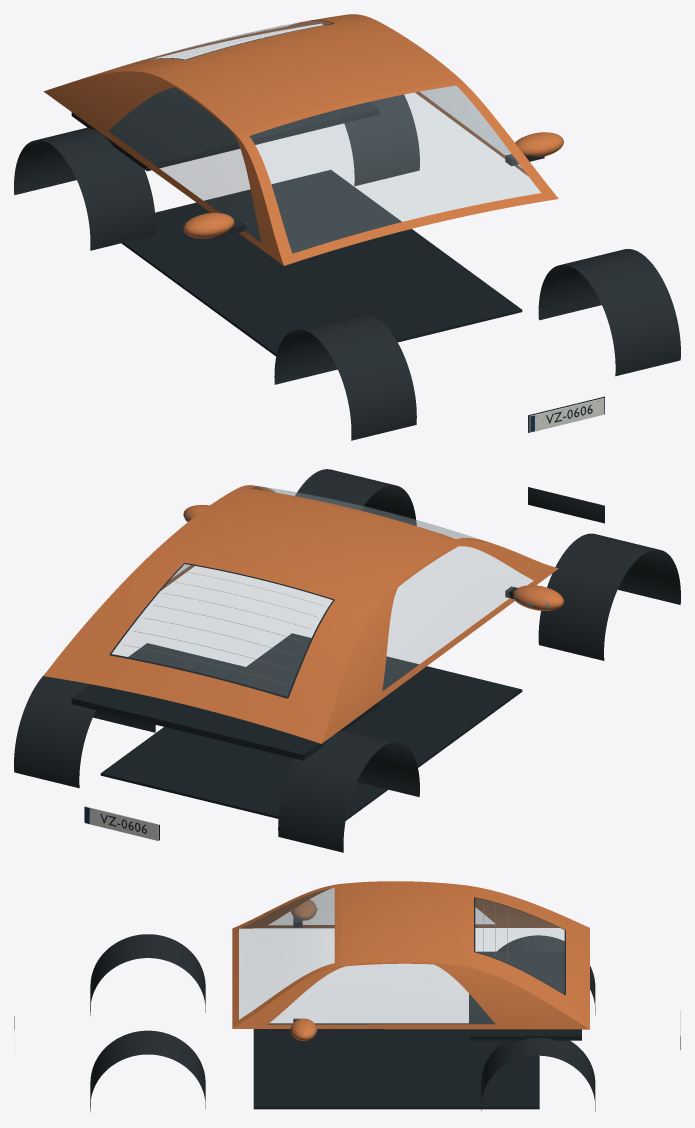
The model's file is aholo-gt-package.glb.
The picture shows the model from 3 angles, top to bottom: view 1: azimuth 30°, elevation 25°; view 2: azimuth 150°, elevation 25°; view 3: azimuth 270°, elevation 25°; orthographic projection. The views are drawn at different scales.
Visible parts, largest first — view 1: Window windscreen, Dark closed passenger floor, Unified canopy roof, Window left, Black wheel housing F1, Black wheel housing F-1, Black wheel housing R-1, Rear parcel shelf, Black wheel housing R1, Window rear, Window right, Front physical VZ-0606 plate Plate (+2 smaller); view 2: Window rear, Dark closed passenger floor, Unified canopy roof, Window left, Black wheel housing F-1, Black wheel housing R-1, Rear parcel shelf, Black wheel housing R1, Black wheel housing F1, Window windscreen, Front physical VZ-0606 plate Graphite, Rear physical VZ-0606 plate Plate (+3 smaller); view 3: Dark closed passenger floor, Window right, Window rear, Window windscreen, Unified canopy roof, Window left, Rear parcel shelf, Black wheel housing F-1, Black wheel housing F1, Black wheel housing R1, Black wheel housing R-1, Mirror streamlined shell.001 (+2 smaller).
Boxes of the visible parts, left/top/right/bottom form: Window windscreen: left=236, top=79, right=558, bottom=265; Dark closed passenger floor: left=122, top=170, right=522, bottom=356; Unified canopy roof: left=160, top=23, right=460, bottom=134; Window left: left=43, top=71, right=283, bottom=265; Black wheel housing F1: left=538, top=249, right=680, bottom=376; Black wheel housing F-1: left=274, top=313, right=416, bottom=440; Black wheel housing R-1: left=14, top=127, right=155, bottom=250; Rear parcel shelf: left=71, top=87, right=379, bottom=171; Black wheel housing R1: left=344, top=94, right=419, bottom=186; Window rear: left=71, top=14, right=380, bottom=82; Window right: left=322, top=21, right=527, bottom=175; Front physical VZ-0606 plate Plate: left=529, top=398, right=604, bottom=432; Window rear: left=43, top=546, right=380, bottom=743; Dark closed passenger floor: left=100, top=633, right=522, bottom=820; Unified canopy roof: left=160, top=489, right=460, bottom=600; Window left: left=322, top=541, right=558, bottom=743; Black wheel housing F-1: left=538, top=533, right=680, bottom=660; Black wheel housing R-1: left=278, top=729, right=419, bottom=852; Rear parcel shelf: left=71, top=643, right=379, bottom=760; Black wheel housing R1: left=14, top=673, right=155, bottom=788; Black wheel housing F1: left=295, top=469, right=416, bottom=525; Window windscreen: left=236, top=485, right=555, bottom=567; Front physical VZ-0606 plate Graphite: left=528, top=487, right=604, bottom=523; Rear physical VZ-0606 plate Plate: left=84, top=806, right=158, bottom=840; Dark closed passenger floor: left=253, top=1023, right=539, bottom=1109; Window right: left=232, top=962, right=589, bottom=1029; Window rear: left=458, top=884, right=589, bottom=1029; Window windscreen: left=232, top=884, right=341, bottom=1028; Unified canopy roof: left=341, top=881, right=458, bottom=965; Window left: left=240, top=888, right=559, bottom=928; Rear parcel shelf: left=469, top=951, right=581, bottom=1040; Black wheel housing F-1: left=90, top=934, right=205, bottom=1015; Black wheel housing F1: left=90, top=1030, right=205, bottom=1112; Black wheel housing R1: left=481, top=1038, right=595, bottom=1111; Black wheel housing R-1: left=497, top=935, right=595, bottom=1014; Mirror streamlined shell.001: left=290, top=1018, right=316, bottom=1040.
Size of the model in its own units: 2.28 by 1.16 by 4.66.
